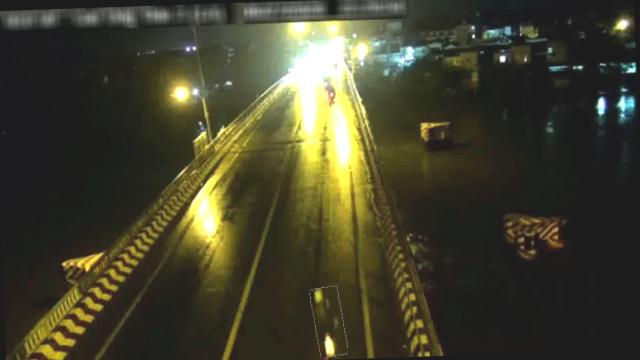Bike: (312, 286, 346, 358), (326, 84, 336, 99)
